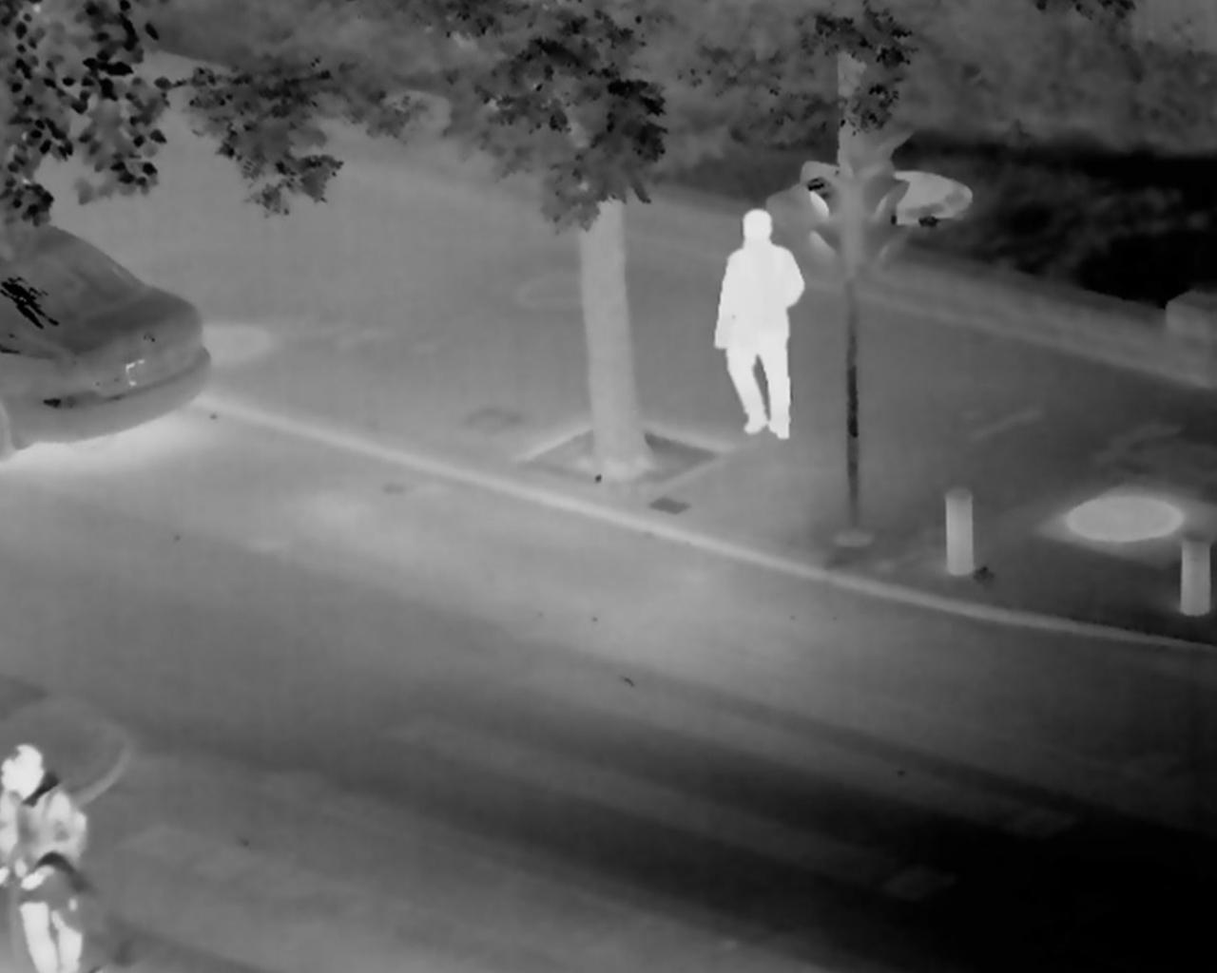person: (705, 206, 805, 450), (6, 719, 95, 973)
